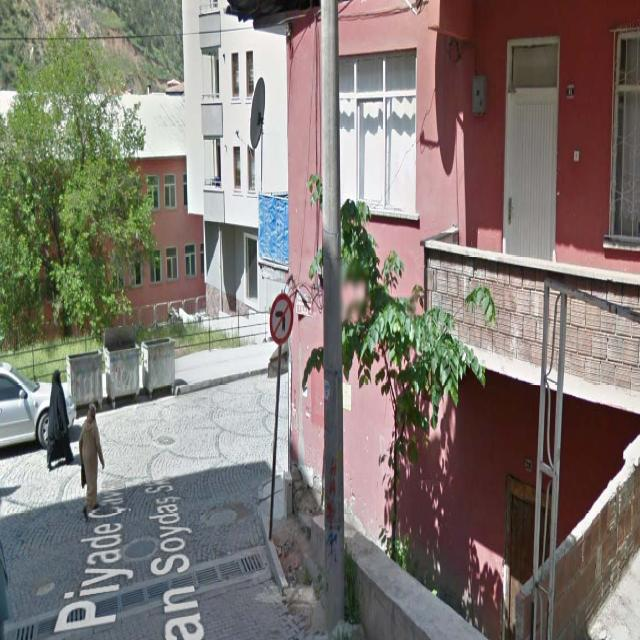soladonulmez: (271, 293, 291, 340)
